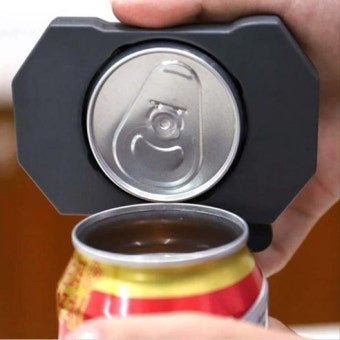paper: (53, 204, 268, 340), (83, 42, 246, 208)
